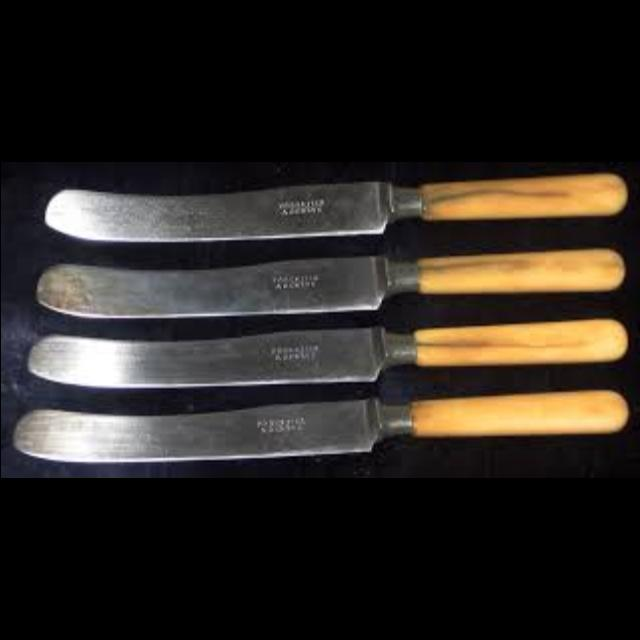knife: (11, 389, 630, 465), (25, 317, 628, 389), (34, 246, 626, 318), (42, 170, 628, 242)
